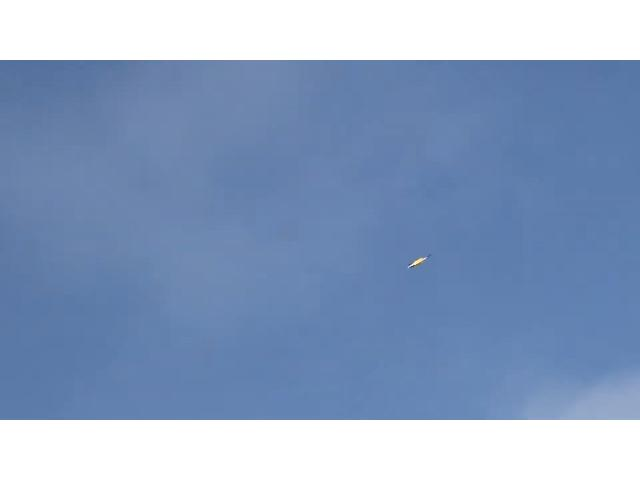Anti-Drone: (406, 256, 432, 268)
